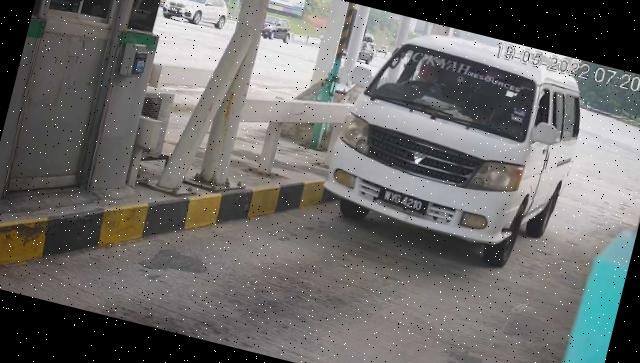License_Plate: (377, 186, 434, 219)
van: (315, 17, 596, 281)
